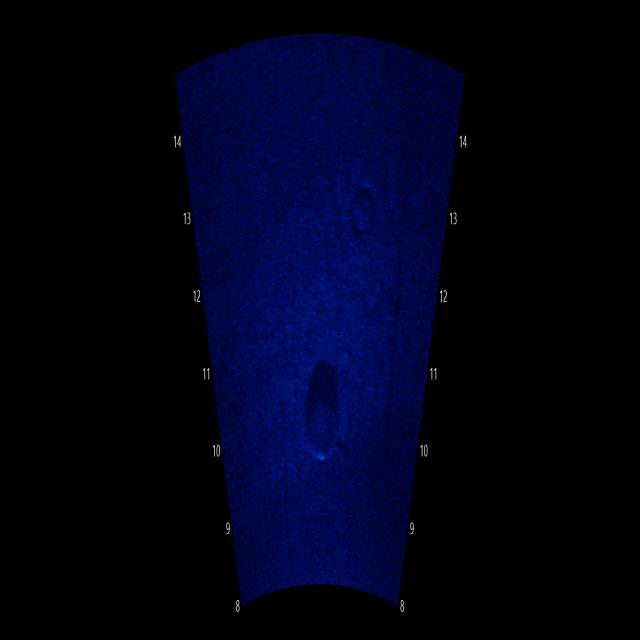circle: (300, 367, 354, 477)
